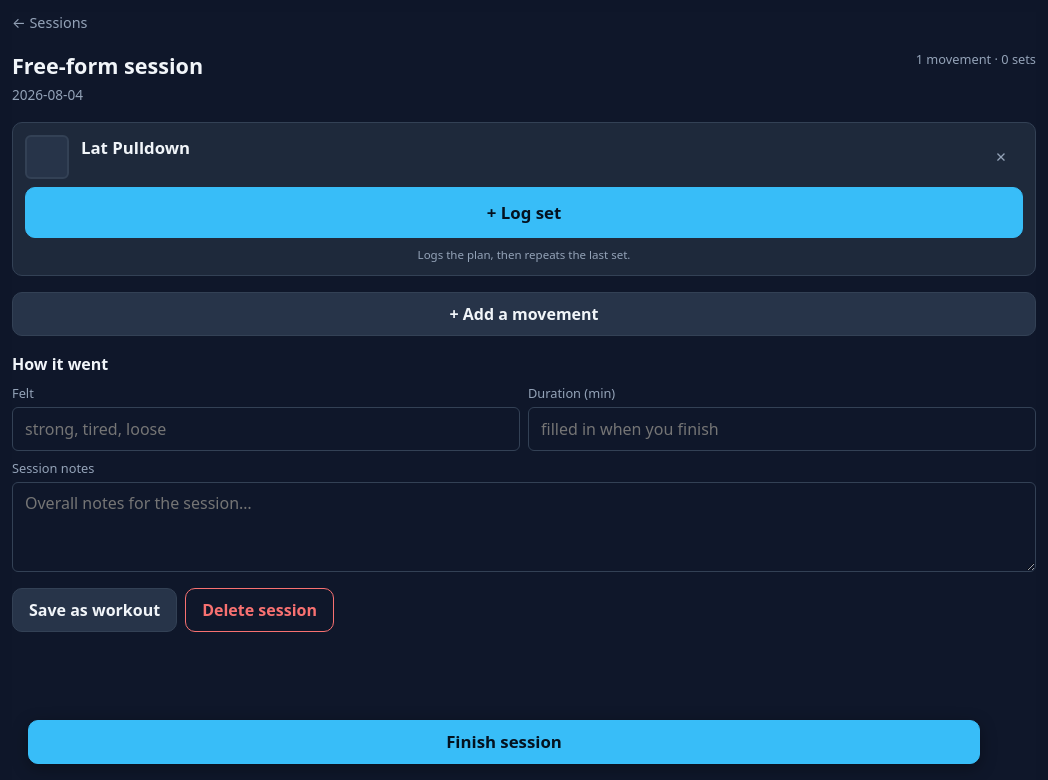
Test: ActiveSessionView — logging › logs a set with no payload at all
This screenshot has width=1048, height=780.
Click the button with class "log-set" at (524, 212), box x1=25 y1=187 x2=1023 y2=238
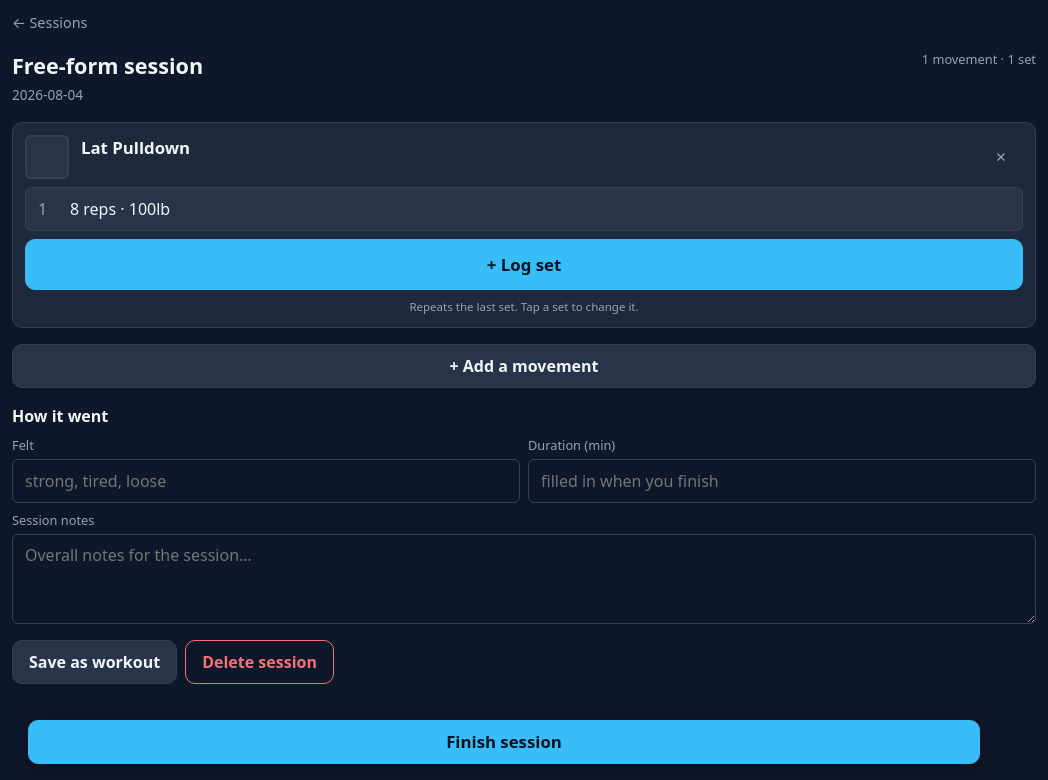
expect the text "8 reps · 100lb" is shown: met, box x1=70 y1=198 x2=170 y2=220
